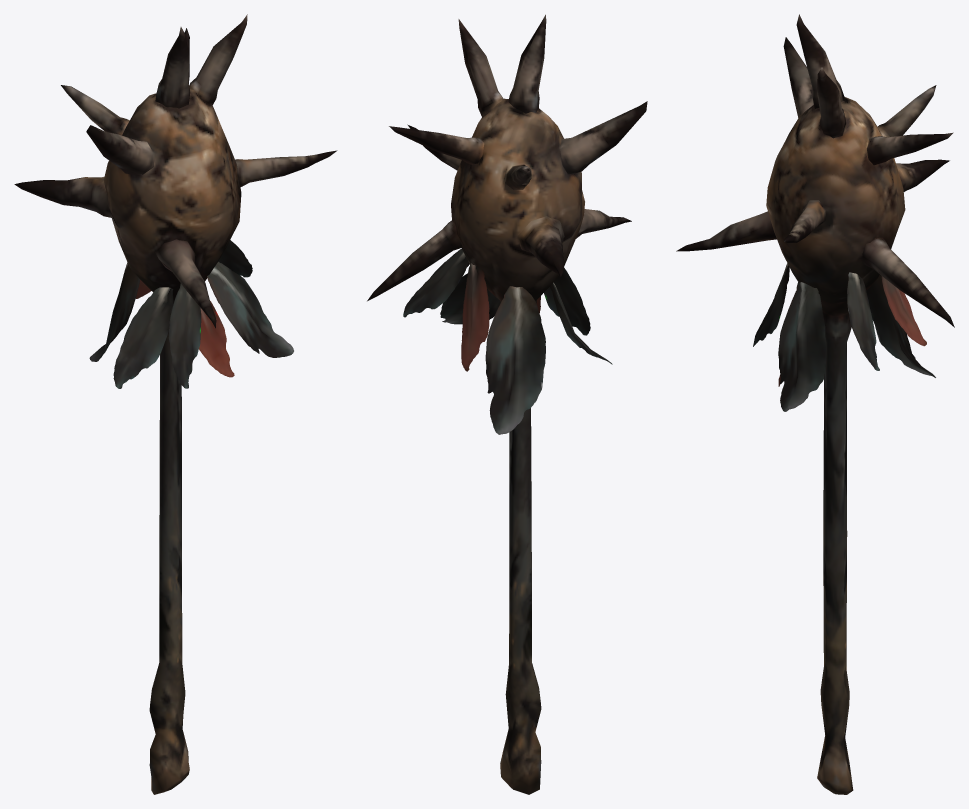
The model's file is weapon-shrike-tree.glb.
3 views of the same model, side by side, from view 1: azimuth 30°, elevation 25°; view 2: azimuth 150°, elevation 25°; view 3: azimuth 270°, elevation 25° (orthographic). The views are drawn at different scales.
Visible parts, largest first — view 1: maceH_MDL_q; view 2: maceH_MDL_q; view 3: maceH_MDL_q.
Part boxes in pixels (box(x1,y1,x2,y2)): maceH_MDL_q: box(14, 14, 337, 794); maceH_MDL_q: box(367, 14, 647, 794); maceH_MDL_q: box(676, 14, 954, 794).
Bounding box in the file's own units: 0.4467 × 1.34 × 0.4363.
1 material, 1 textured.
